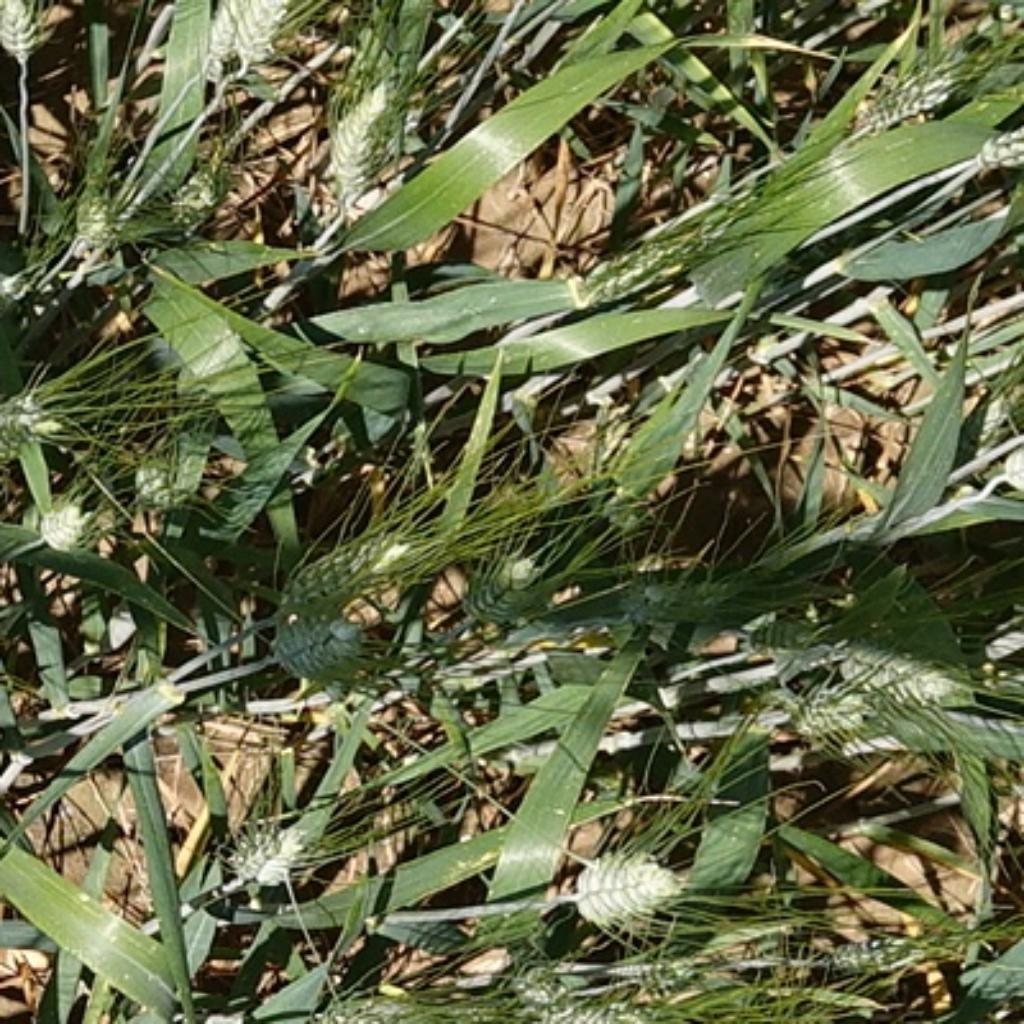0-0: (309, 28, 435, 212), (276, 513, 435, 629), (565, 222, 706, 314), (261, 581, 378, 678), (826, 627, 965, 704), (618, 542, 730, 628), (569, 848, 695, 924), (161, 125, 256, 225), (122, 412, 217, 509), (453, 537, 550, 632), (851, 63, 966, 132), (795, 688, 897, 757), (535, 976, 675, 1024), (64, 166, 145, 248), (30, 486, 122, 555), (225, 815, 304, 889), (822, 929, 947, 975), (0, 382, 70, 463), (739, 601, 834, 655), (235, 0, 307, 69), (957, 122, 1024, 184), (303, 992, 421, 1024), (187, 0, 238, 74), (0, 0, 49, 63), (0, 256, 51, 314)
